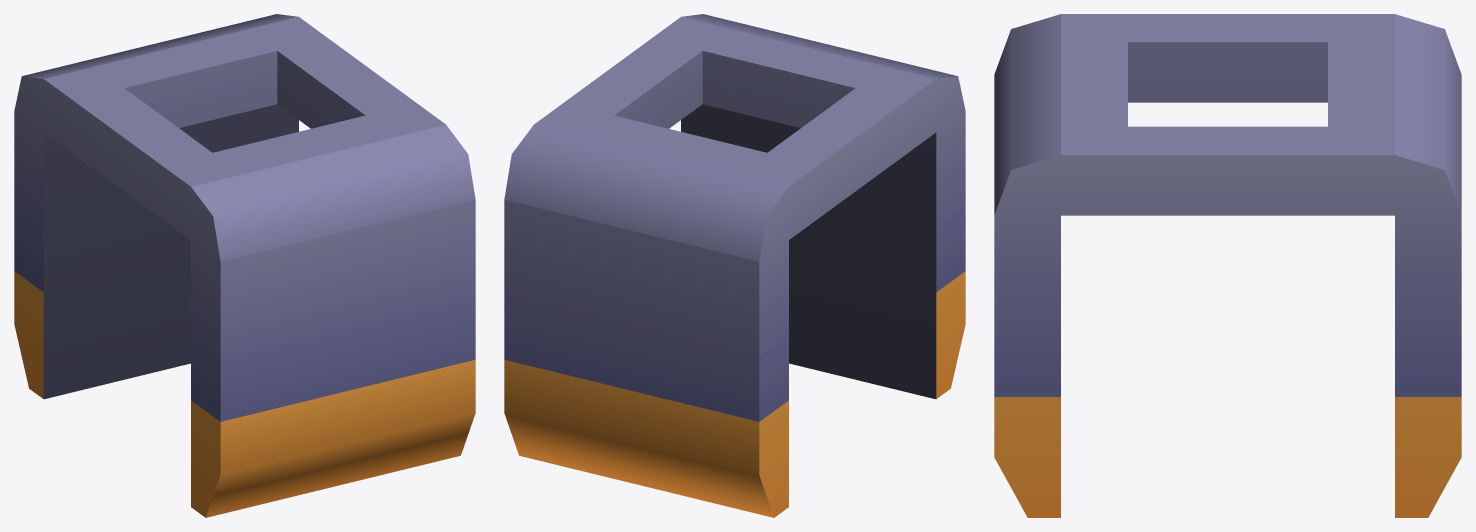
File: kenney-conveyor-cover-stripe-top.glb
The picture shows the model from 3 angles, left to right: view 1: azimuth 30°, elevation 25°; view 2: azimuth 150°, elevation 25°; view 3: azimuth 270°, elevation 25°; orthographic projection. The views are drawn at different scales.
Parts seen in each view (by area): view 1: cover-stripe-top; view 2: cover-stripe-top; view 3: cover-stripe-top.
Boxes of the visible parts, bbox=[...] form: cover-stripe-top: bbox=[14, 14, 475, 517]; cover-stripe-top: bbox=[504, 14, 965, 517]; cover-stripe-top: bbox=[994, 14, 1461, 517].
Size of the model in its own units: 1 by 1.2 by 1.4.
Materials: 1 (1 with a texture image).
